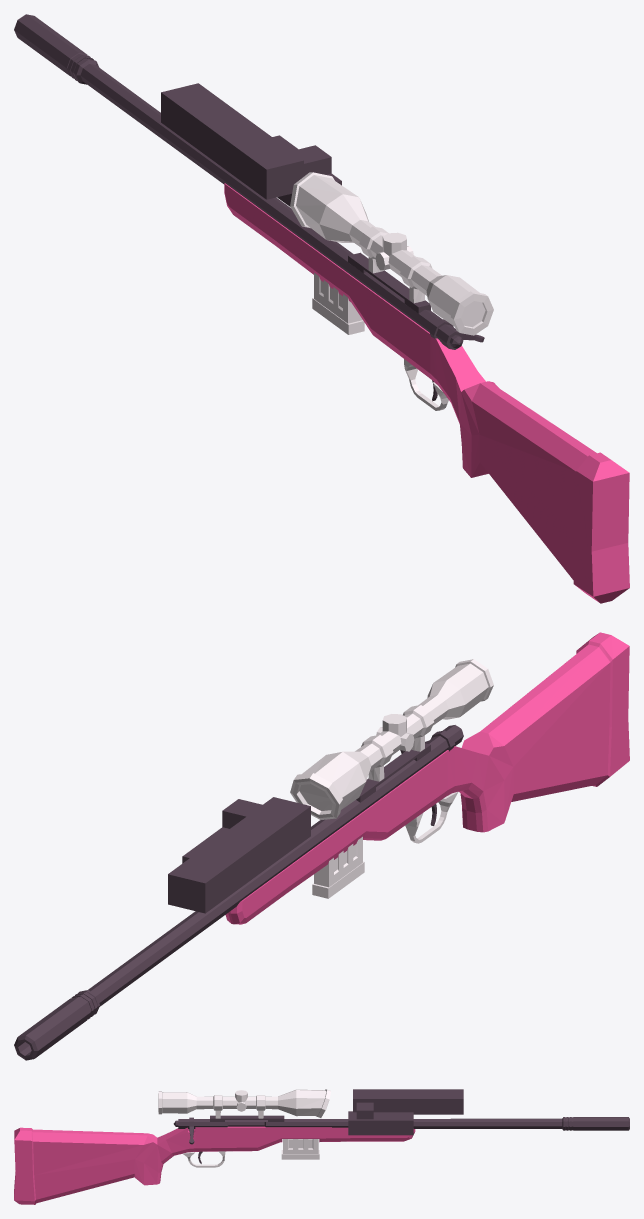
The model's file is SniperRifle_2.obj.
3 renders of one model, top to bottom at view 1: azimuth 30°, elevation 25°; view 2: azimuth 150°, elevation 25°; view 3: azimuth 270°, elevation 25°, orthographic. The views are drawn at different scales.
Parts seen in each view (by area): view 1: Accent, Body, Hardware, Bolt; view 2: Accent, Body, Hardware, Bolt; view 3: Accent, Hardware, Body, Bolt.
Boxes of the visible parts, x1,y1,x2,y2 form: Accent: (224, 183, 629, 603); Body: (290, 172, 493, 410); Hardware: (14, 14, 484, 401); Bolt: (161, 83, 331, 199); Accent: (225, 632, 629, 924); Body: (290, 659, 493, 898); Hardware: (14, 725, 463, 1060); Bolt: (168, 797, 310, 913); Accent: (14, 1126, 415, 1204); Hardware: (173, 1111, 629, 1163); Body: (158, 1089, 330, 1167); Bolt: (353, 1089, 463, 1119).
Size of the model in its own units: 0.4688 by 1.32 by 6.5.
